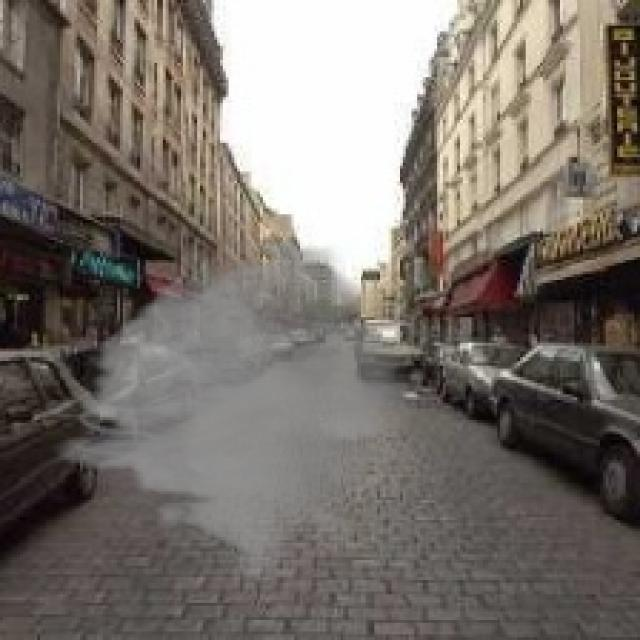Smoke: (39, 237, 452, 583)
